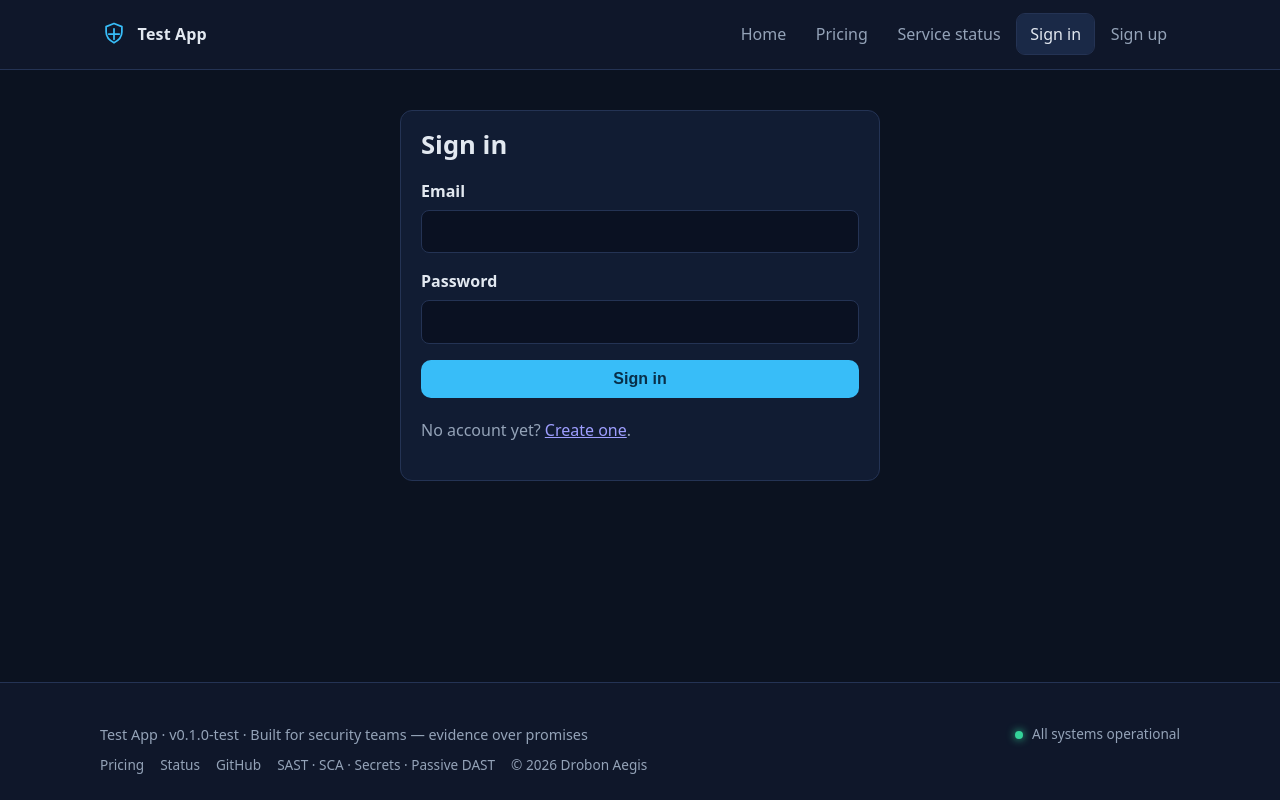
it: login page › Security Professional login lands on the professional dashboard
The width and height of the screenshot is (1280, 800).
Type "professional@example.test" into the field labelled "Email" at x=640, y=232, box [421,210,859,253]
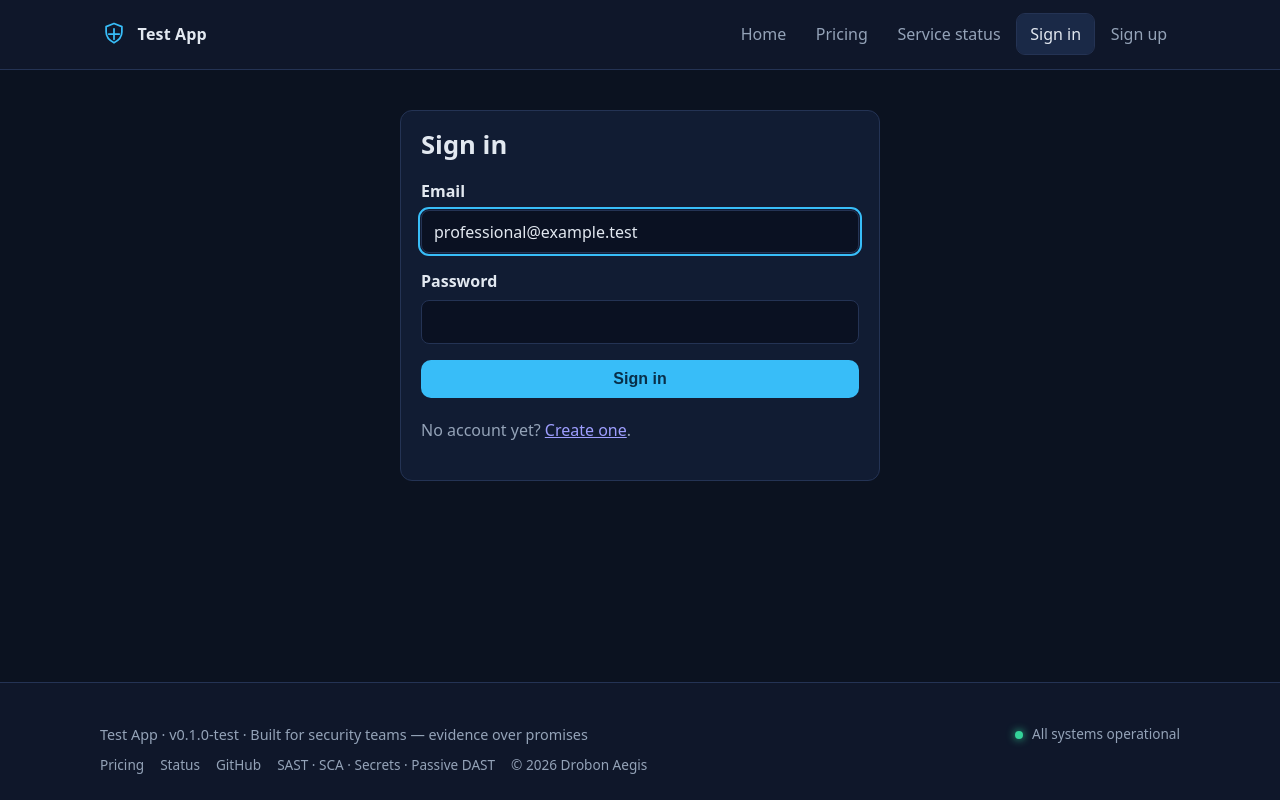
Type "professional-password" into the password field labelled "Password" at x=640, y=322, box [421,300,859,344]
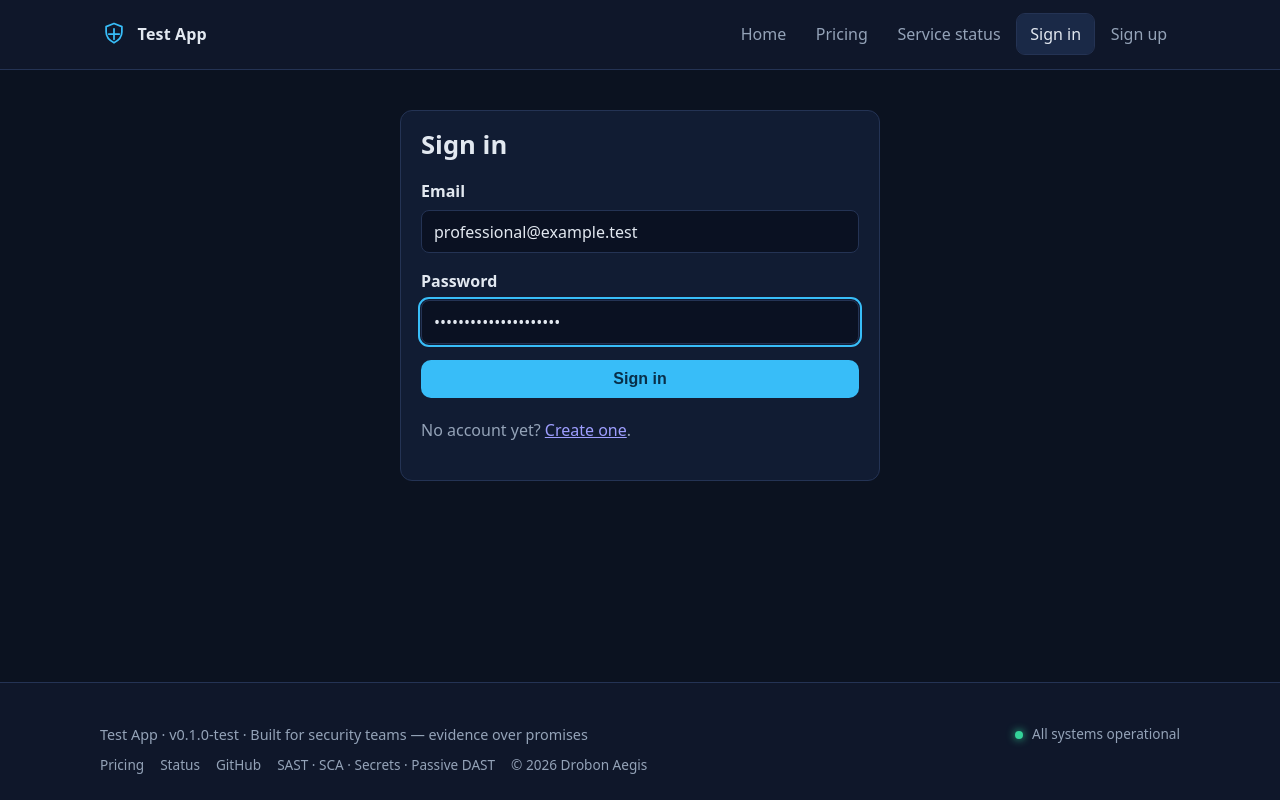
Click the button "Sign in" at x=640, y=379, box [421,360,859,398]
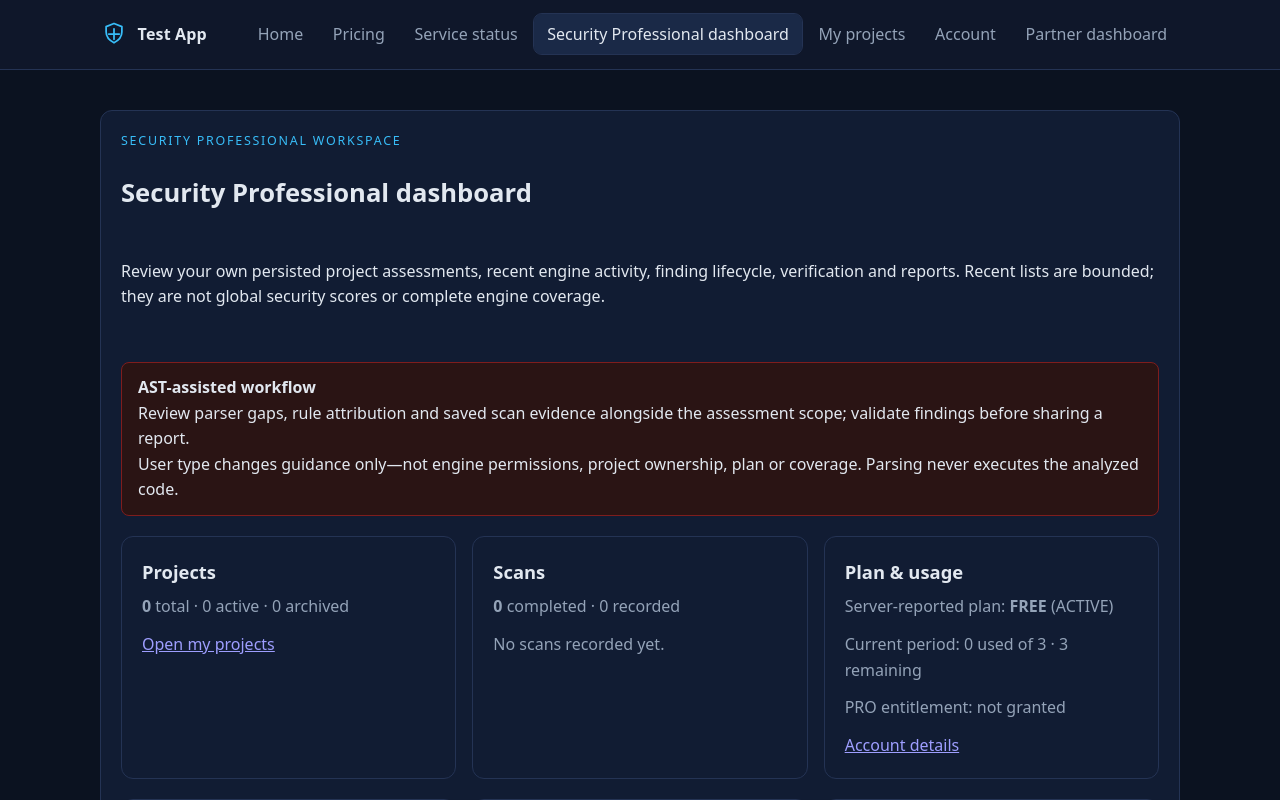
Expected: the heading "Security Professional dashboard" is shown, [121,175,532,210]
